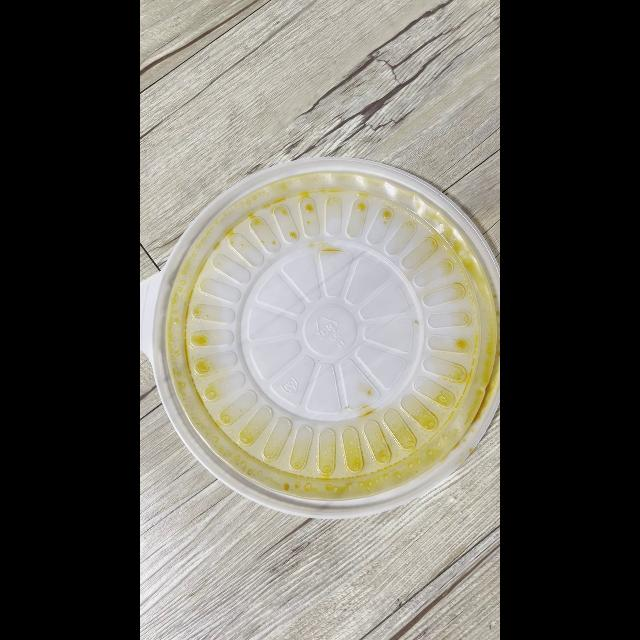dirty: (164, 164, 501, 510)
